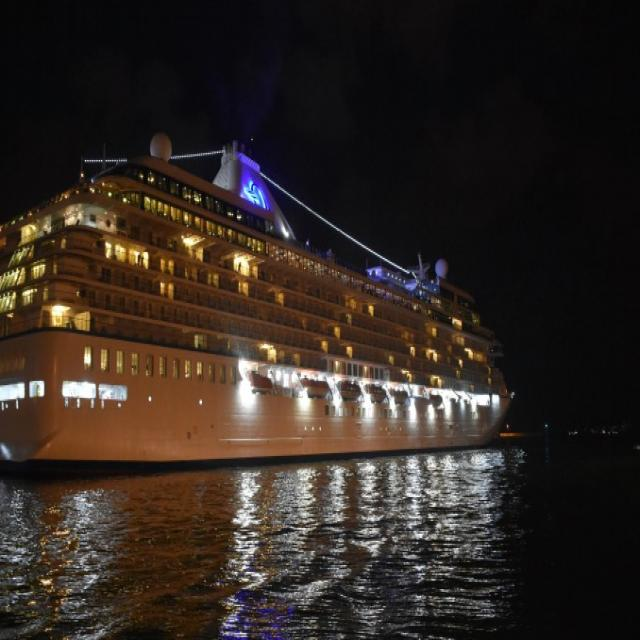cruises: (1, 125, 523, 483)
